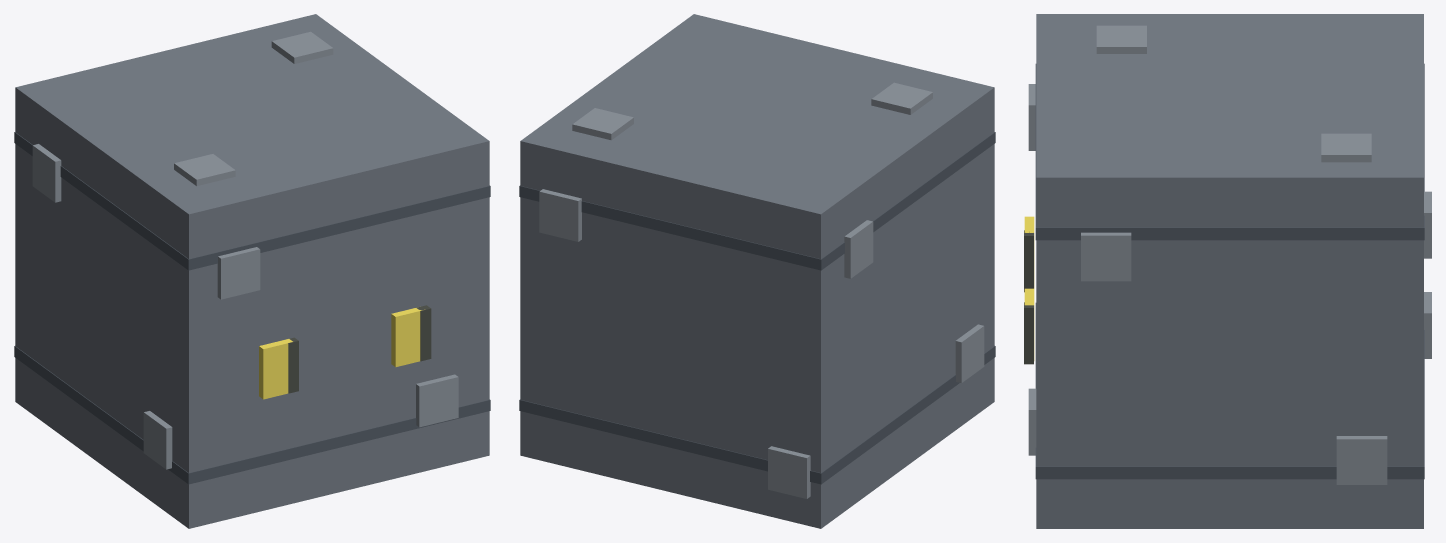
Rendered from nuclear_waste_ore_block.glb.
The picture shows the model from 3 angles, left to right: view 1: azimuth 30°, elevation 25°; view 2: azimuth 150°, elevation 25°; view 3: azimuth 270°, elevation 25°; orthographic projection. The views are drawn at different scales.
Parts seen in each view (by area): view 1: dark_stone_core, dark_seam_1, dark_seam, stone_chip, stone_chip_1, hazard_stripe, hazard_stripe_1, stone_chip_7, stone_chip_6, stone_chip_9, stone_chip_8, hazard_black_1 (+1 smaller); view 2: dark_stone_core, dark_seam, dark_seam_1, stone_chip_3, stone_chip_2, stone_chip_7, stone_chip_6, stone_chip_8, stone_chip_9; view 3: dark_stone_core, dark_seam_1, dark_seam, stone_chip_4, stone_chip_5, stone_chip_9, stone_chip_8, hazard_black_1, stone_chip_1, hazard_black, stone_chip_3, stone_chip (+1 smaller).
Boxes of the visible parts, x1=… form: dark_stone_core: x1=15, y1=14, x2=489, y2=528; dark_seam_1: x1=14, y1=132, x2=490, y2=270; dark_seam: x1=14, y1=346, x2=490, y2=484; stone_chip: x1=217, y1=247, x2=260, y2=299; stone_chip_1: x1=416, y1=374, x2=458, y2=427; hazard_stripe: x1=259, y1=339, x2=292, y2=399; hazard_stripe_1: x1=391, y1=308, x2=424, y2=367; stone_chip_7: x1=143, y1=411, x2=172, y2=469; stone_chip_6: x1=32, y1=144, x2=61, y2=202; stone_chip_9: x1=271, y1=31, x2=333, y2=63; stone_chip_8: x1=174, y1=154, x2=235, y2=186; hazard_black_1: x1=416, y1=305, x2=431, y2=361; dark_stone_core: x1=520, y1=14, x2=994, y2=528; dark_seam: x1=519, y1=346, x2=995, y2=484; dark_seam_1: x1=519, y1=132, x2=995, y2=270; stone_chip_3: x1=539, y1=189, x2=581, y2=241; stone_chip_2: x1=768, y1=446, x2=810, y2=498; stone_chip_7: x1=955, y1=324, x2=984, y2=383; stone_chip_6: x1=844, y1=220, x2=873, y2=278; stone_chip_8: x1=871, y1=82, x2=932, y2=114; stone_chip_9: x1=572, y1=108, x2=633, y2=140; dark_stone_core: x1=1036, y1=14, x2=1423, y2=528; dark_seam_1: x1=1035, y1=63, x2=1424, y2=240; dark_seam: x1=1035, y1=303, x2=1424, y2=479; stone_chip_4: x1=1081, y1=232, x2=1131, y2=281; stone_chip_5: x1=1336, y1=436, x2=1387, y2=484; stone_chip_9: x1=1321, y1=133, x2=1371, y2=162; stone_chip_8: x1=1096, y1=25, x2=1146, y2=53; hazard_black_1: x1=1024, y1=302, x2=1033, y2=364; stone_chip_1: x1=1028, y1=388, x2=1036, y2=455; hazard_black: x1=1024, y1=230, x2=1033, y2=292; stone_chip_3: x1=1424, y1=191, x2=1431, y2=258; stone_chip: x1=1028, y1=84, x2=1035, y2=150.
Bounding box in the file's own units: 1.04 × 1.04 × 1.05.
